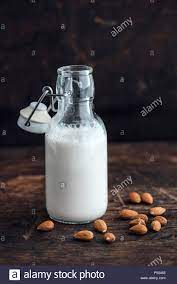milk: (22, 58, 123, 232)
